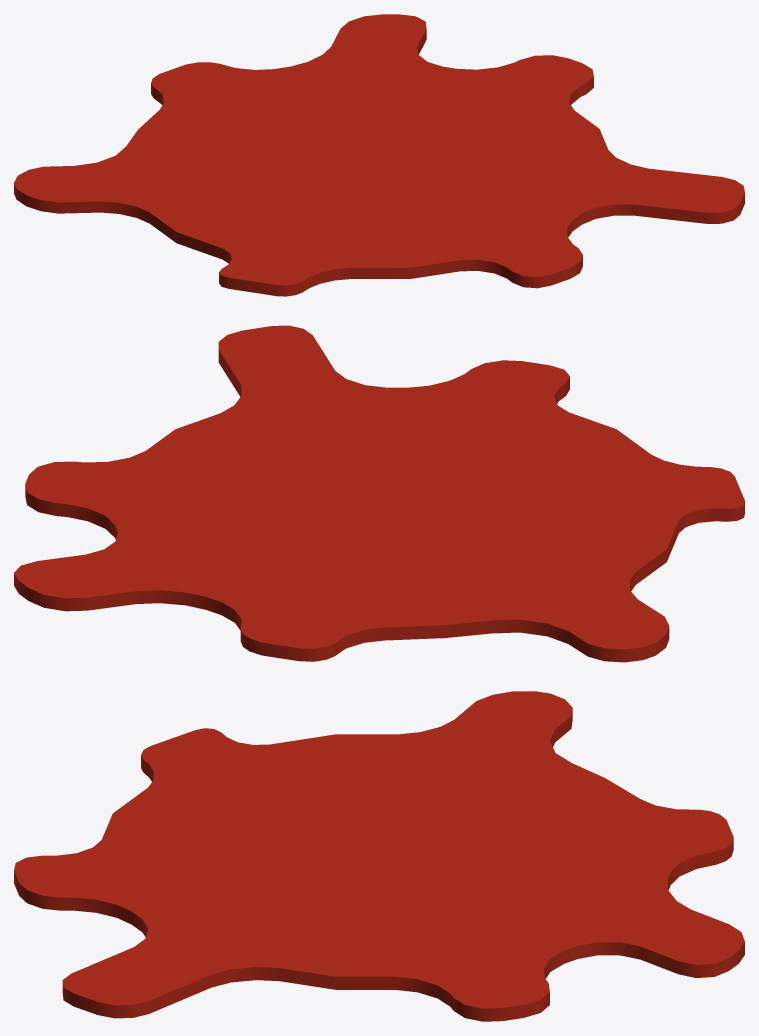
File: Ketchup.Splatter.fbx
The picture shows the model from 3 angles, top to bottom: view 1: azimuth 30°, elevation 25°; view 2: azimuth 150°, elevation 25°; view 3: azimuth 270°, elevation 25°; orthographic projection. The views are drawn at different scales.
Parts seen in each view (by area): view 1: Ketchup.Splatter; view 2: Ketchup.Splatter; view 3: Ketchup.Splatter.
Part boxes in pixels (x1,y1,x2,y2): Ketchup.Splatter: (14, 14, 744, 296); Ketchup.Splatter: (14, 325, 744, 662); Ketchup.Splatter: (14, 691, 744, 1021).
Bounding box in the file's own units: 55.72 × 1.07 × 54.21.
